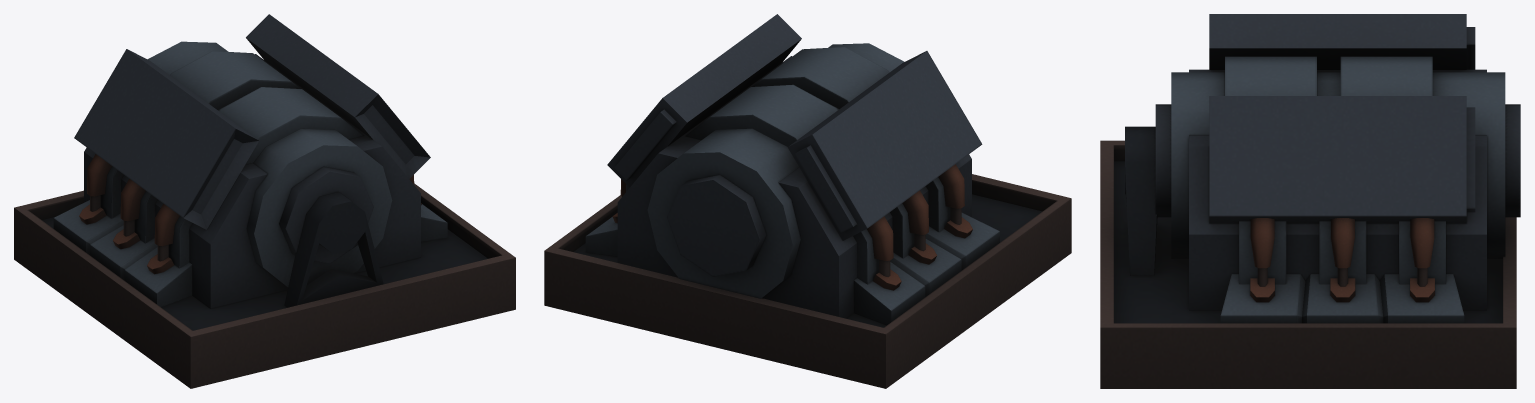
File: Engine_v1.FBX
The picture shows the model from 3 angles, left to right: view 1: azimuth 30°, elevation 25°; view 2: azimuth 150°, elevation 25°; view 3: azimuth 270°, elevation 25°; orthographic projection. The views are drawn at different scales.
Visible parts, largest first — view 1: Engine_v1; view 2: Engine_v1; view 3: Engine_v1.
Boxes of the visible parts, x1,y1,x2,y2 form: Engine_v1: (14,14,515,388); Engine_v1: (544,14,1071,388); Engine_v1: (1100,14,1520,388).
Size of the model in its own units: 0.9111 by 0.5466 by 0.8662.
